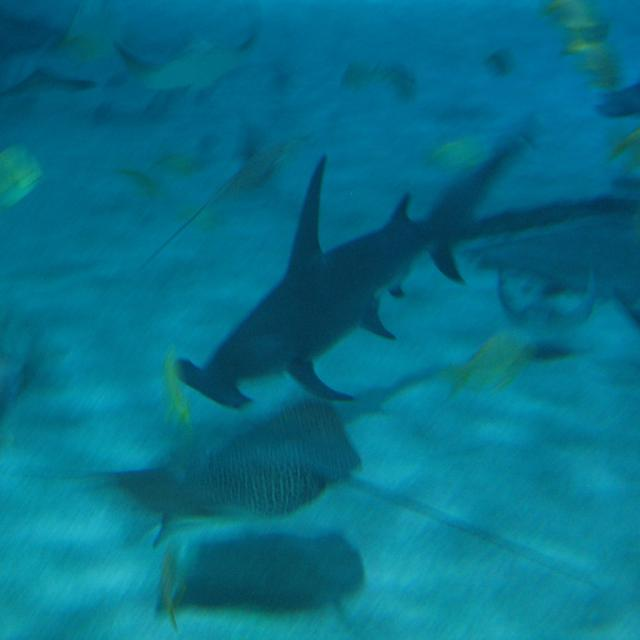Shark: (173, 137, 532, 394)
